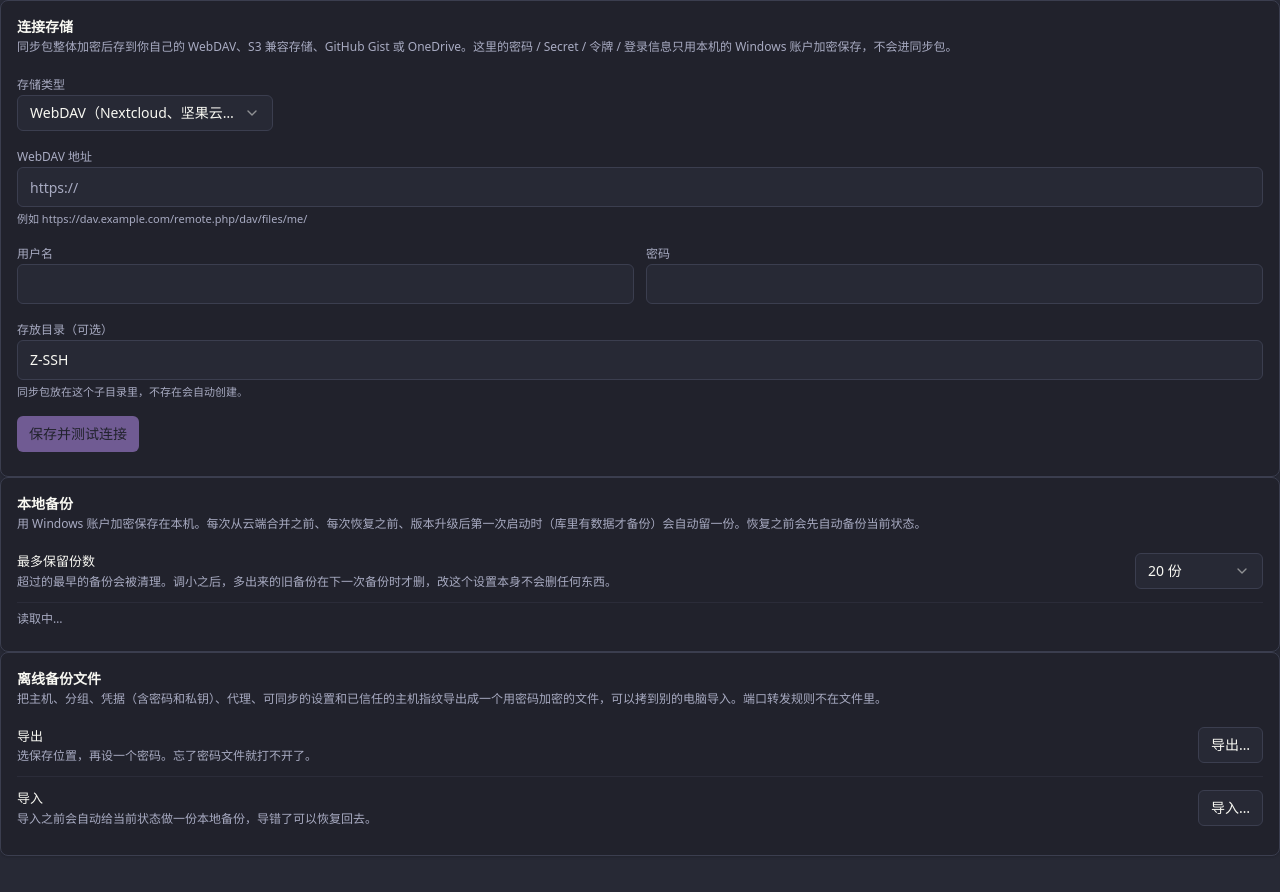
Test: 未配置 / 连接 › http:// 地址要警告密码明文发送，勾选确认才允许保存
Type "http://192.168.1.5/dav" into the field labelled "WebDAV 地址" at [640, 187], box 17,167 -> 1263,207
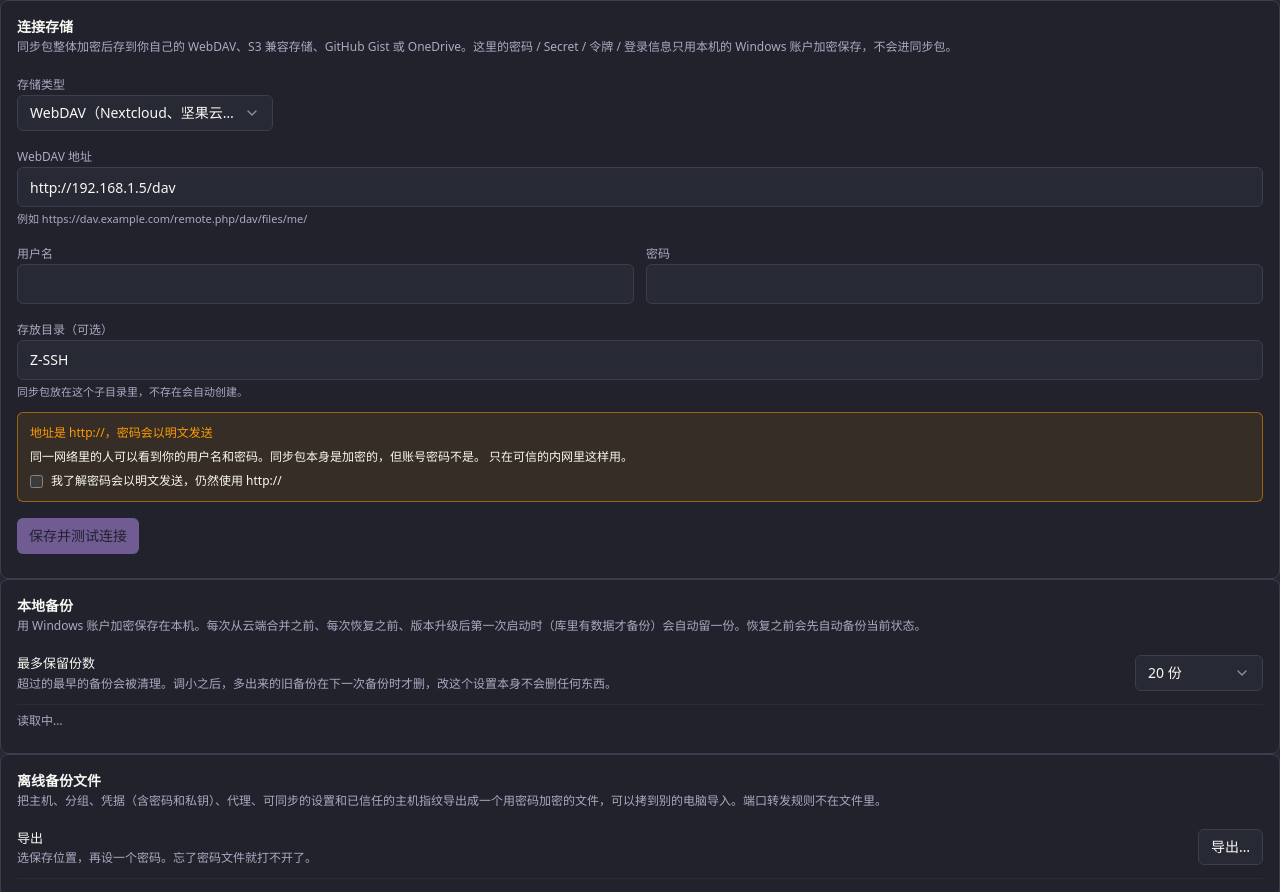
Type "alice" into the field labelled "用户名" at [326, 284], box 17,264 -> 634,304
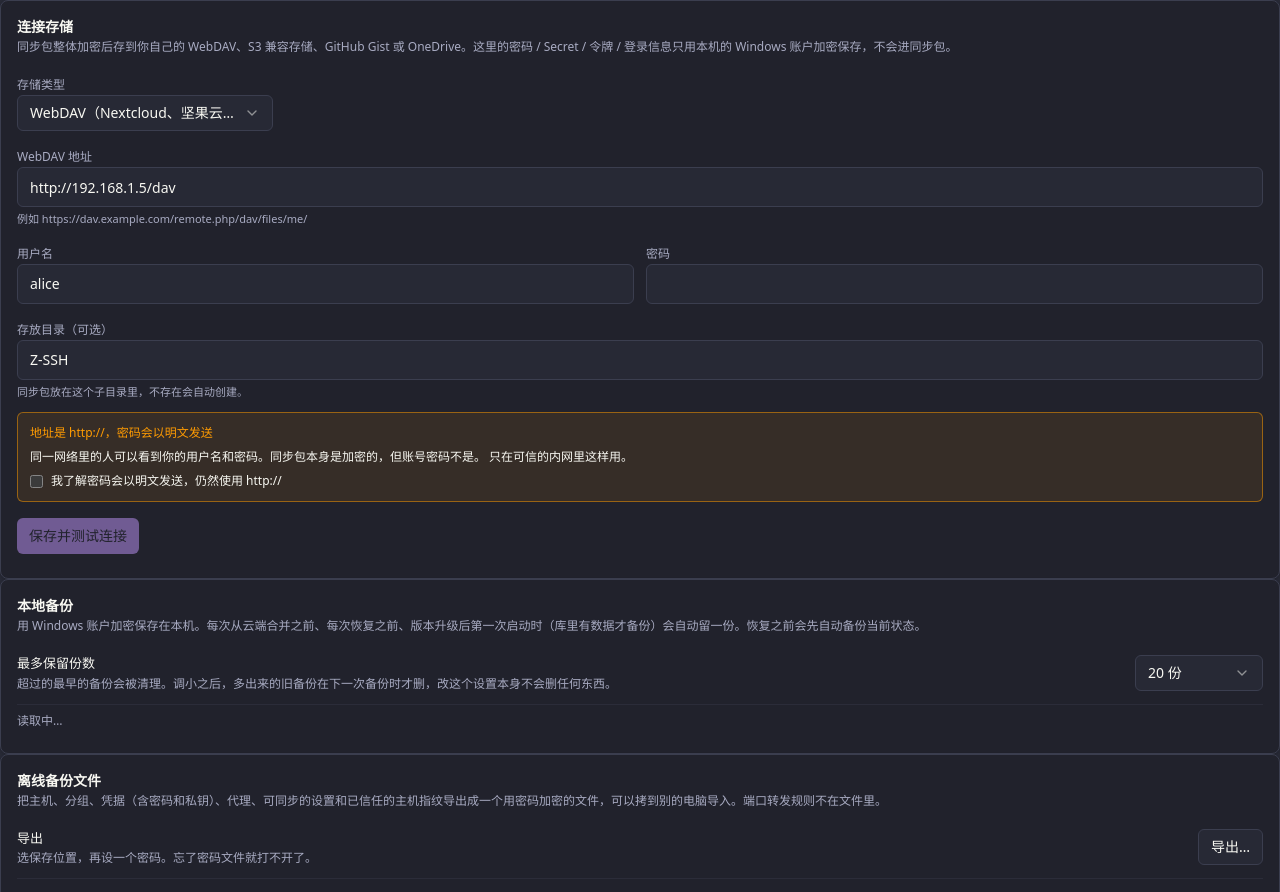
Type "secret" into the password field labelled "密码" at [954, 284], box 646,264 -> 1263,304
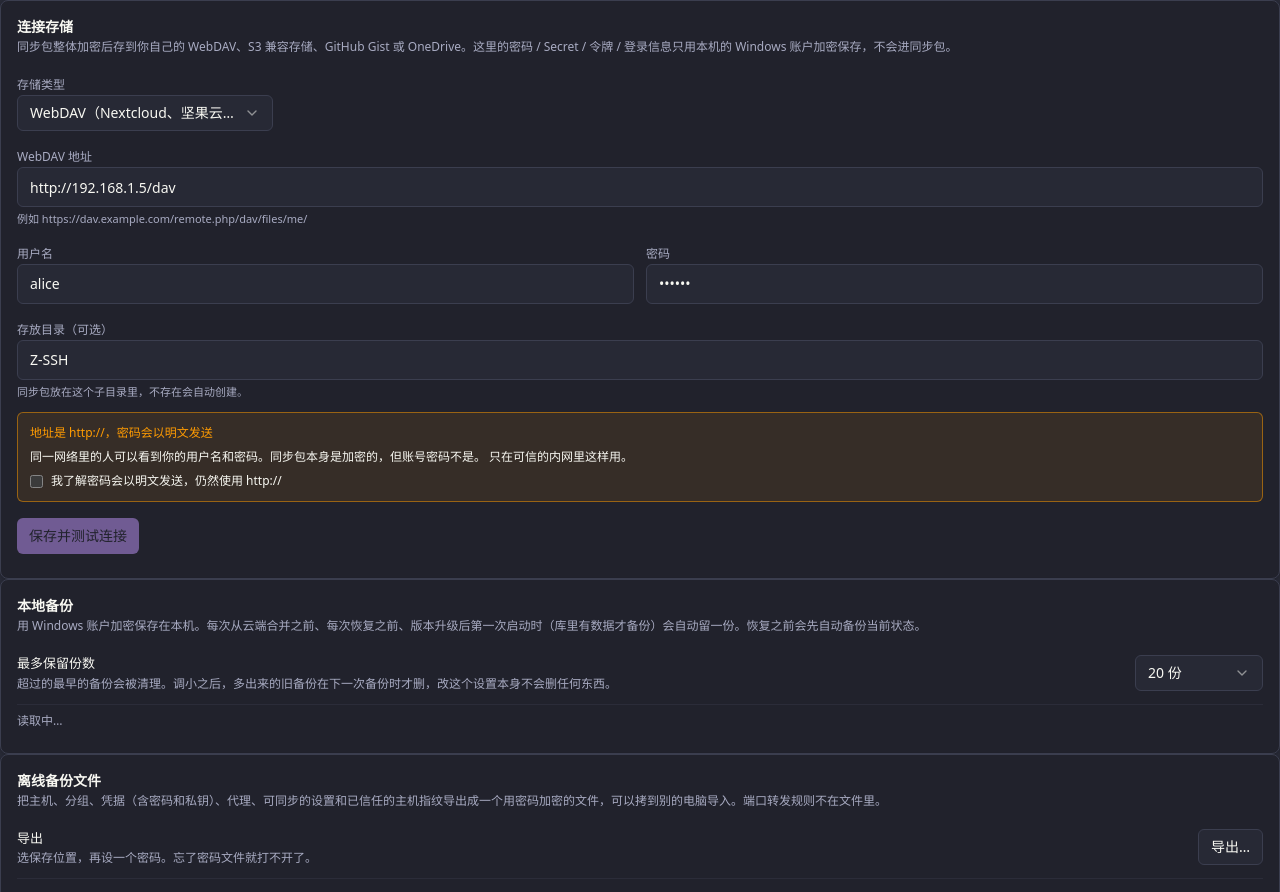
Expected: the button "保存并测试连接" is disabled, 17,518 -> 139,554
Now the message shows "密码会以明文发送", box 30,424 -> 213,441
Click the checkbox labelled "我了解密码会以明文发送" at [36, 481], box 30,474 -> 43,488
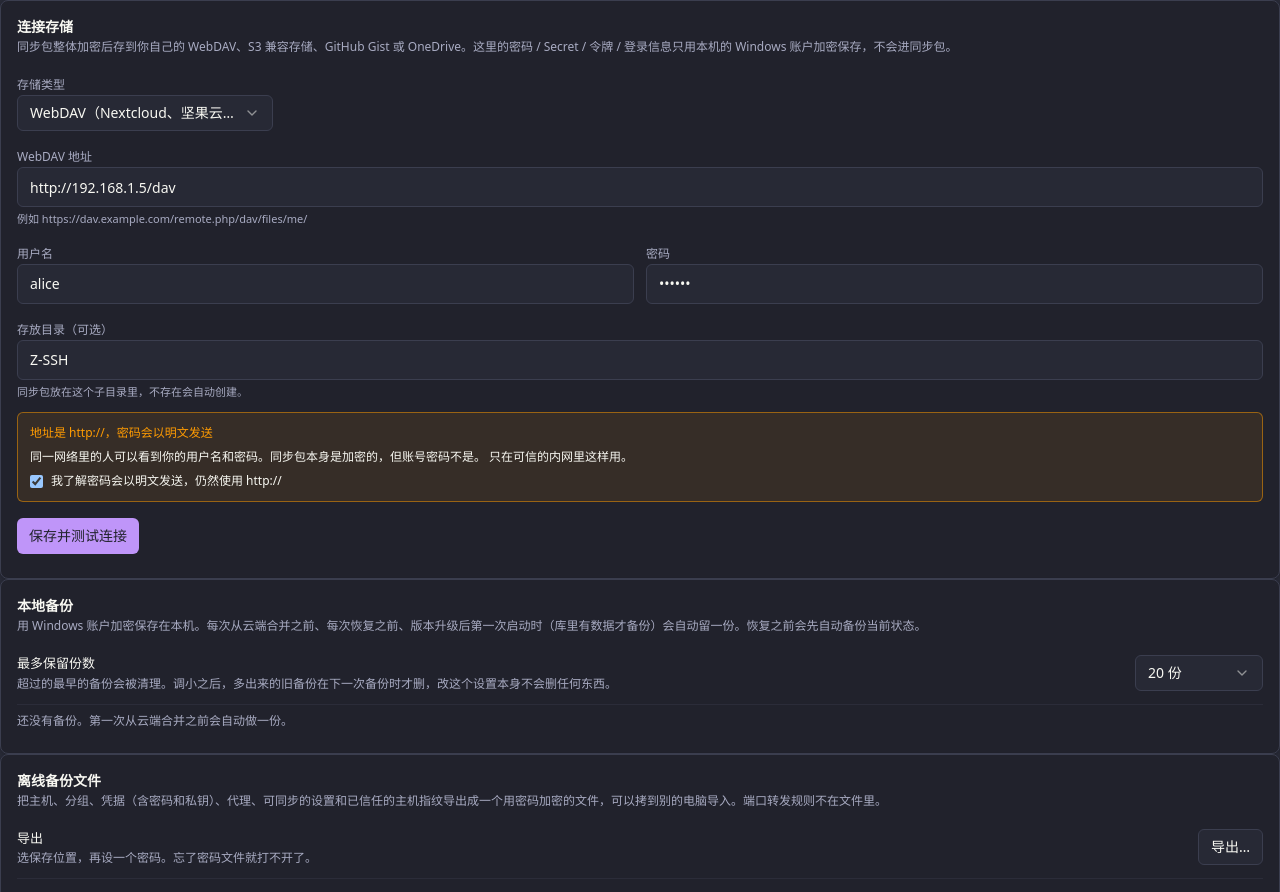
Now the button "保存并测试连接" is enabled, box 17,518 -> 139,554
